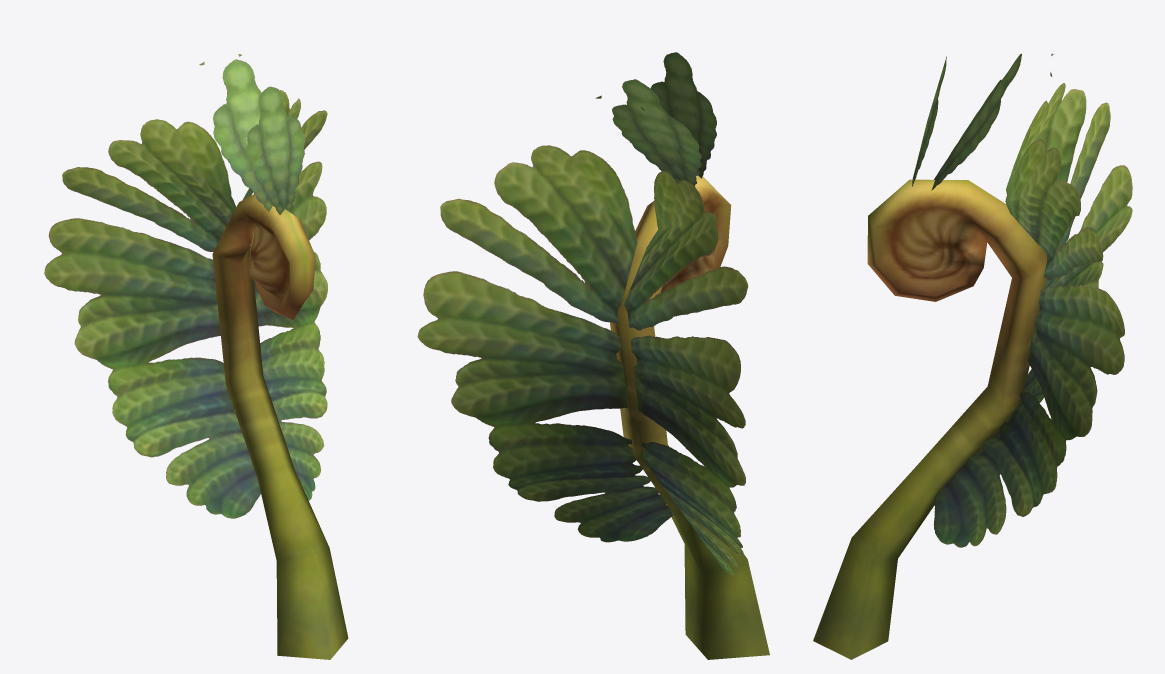
Rendered from Map_07_grass03.FBX.
The picture shows the model from 3 angles, left to right: view 1: azimuth 30°, elevation 25°; view 2: azimuth 150°, elevation 25°; view 3: azimuth 270°, elevation 25°; orthographic projection. The views are drawn at different scales.
Visible parts, largest first — view 1: Map_07_grass03; view 2: Map_07_grass03; view 3: Map_07_grass03.
Boxes of the visible parts, x1=… form: Map_07_grass03: x1=44, y1=54, x2=348, y2=659; Map_07_grass03: x1=417, y1=52, x2=769, y2=659; Map_07_grass03: x1=813, y1=53, x2=1132, y2=659.
Size of the model in its own units: 225 by 176 by 360.
1 material, 1 textured.
